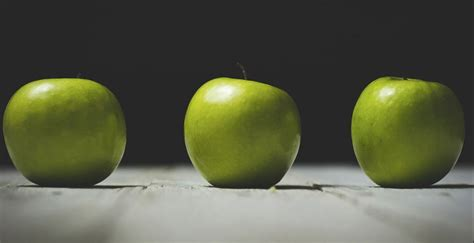apple: (179, 72, 308, 191), (3, 77, 130, 192), (347, 73, 468, 192)
